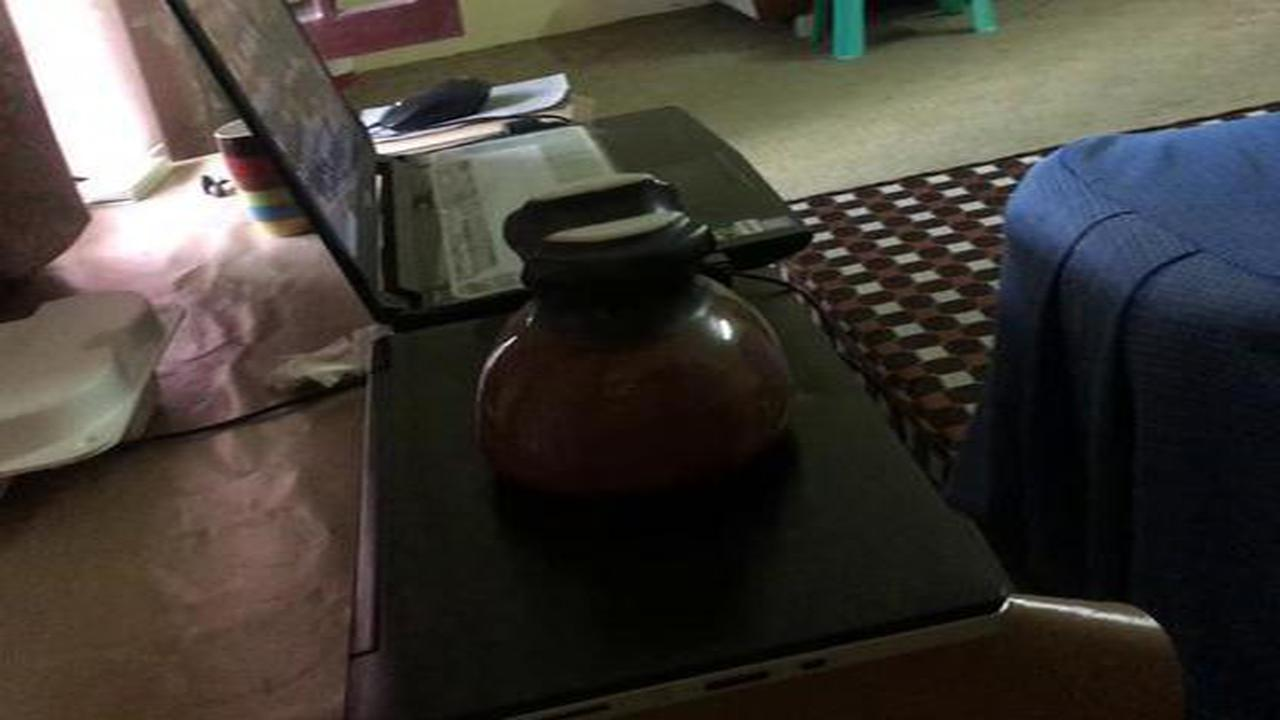insulator_pin: (450, 170, 822, 525)
